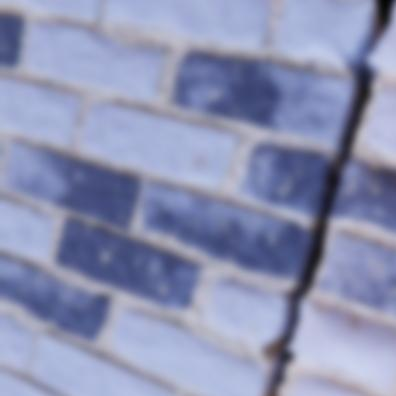brick: (169, 52, 352, 145), (142, 182, 308, 281), (56, 217, 203, 309), (113, 309, 264, 395), (82, 104, 238, 186), (4, 141, 141, 231), (27, 22, 162, 101), (0, 254, 110, 341), (34, 331, 174, 395), (106, 0, 270, 50), (317, 232, 395, 315), (0, 77, 80, 146), (0, 196, 54, 258), (0, 0, 102, 20), (0, 311, 34, 370), (365, 89, 395, 154), (0, 367, 60, 395), (291, 375, 364, 395), (0, 15, 24, 69), (0, 140, 3, 172)
broken_brick: (286, 298, 395, 386), (238, 144, 327, 216), (277, 0, 372, 65), (205, 279, 286, 345), (330, 159, 395, 232), (367, 0, 395, 71)
crack: (262, 0, 394, 395), (0, 7, 24, 15), (9, 66, 25, 77), (7, 136, 13, 157), (27, 13, 35, 23), (0, 180, 4, 192)
